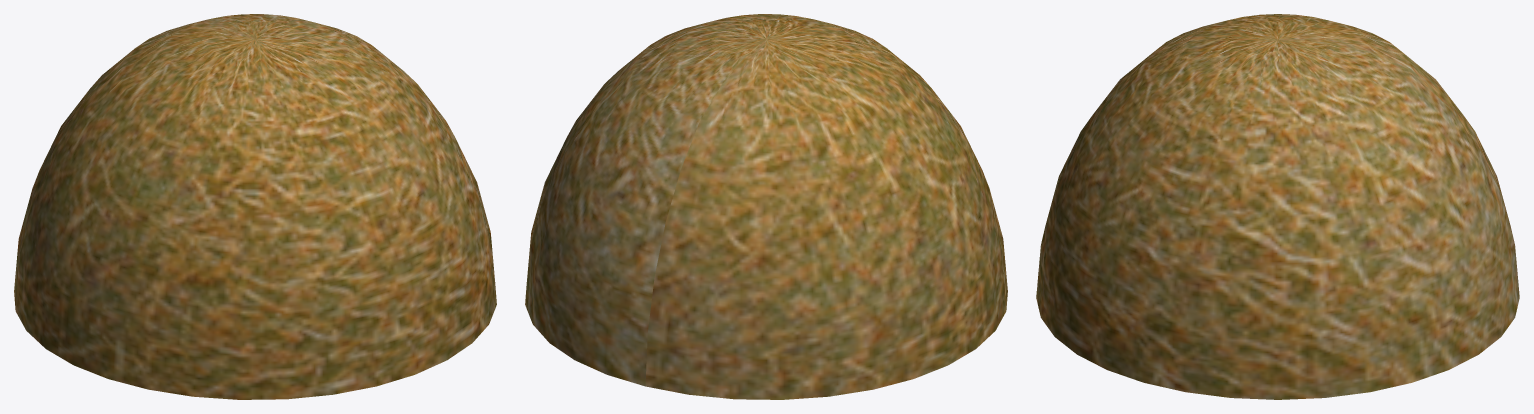
File: Kiwi3.fbx
3 views of the same model, side by side, from view 1: azimuth 30°, elevation 25°; view 2: azimuth 150°, elevation 25°; view 3: azimuth 270°, elevation 25° (orthographic).
Parts seen in each view (by area): view 1: Kiwi3; view 2: Kiwi3; view 3: Kiwi3.
Part boxes in pixels (left/top/right/bottom): Kiwi3: left=14, top=14, right=496, bottom=399; Kiwi3: left=525, top=14, right=1007, bottom=399; Kiwi3: left=1036, top=14, right=1519, bottom=399.
Bounding box in the file's own units: 1.6 × 0.9422 × 1.6.
1 material, 1 textured.
